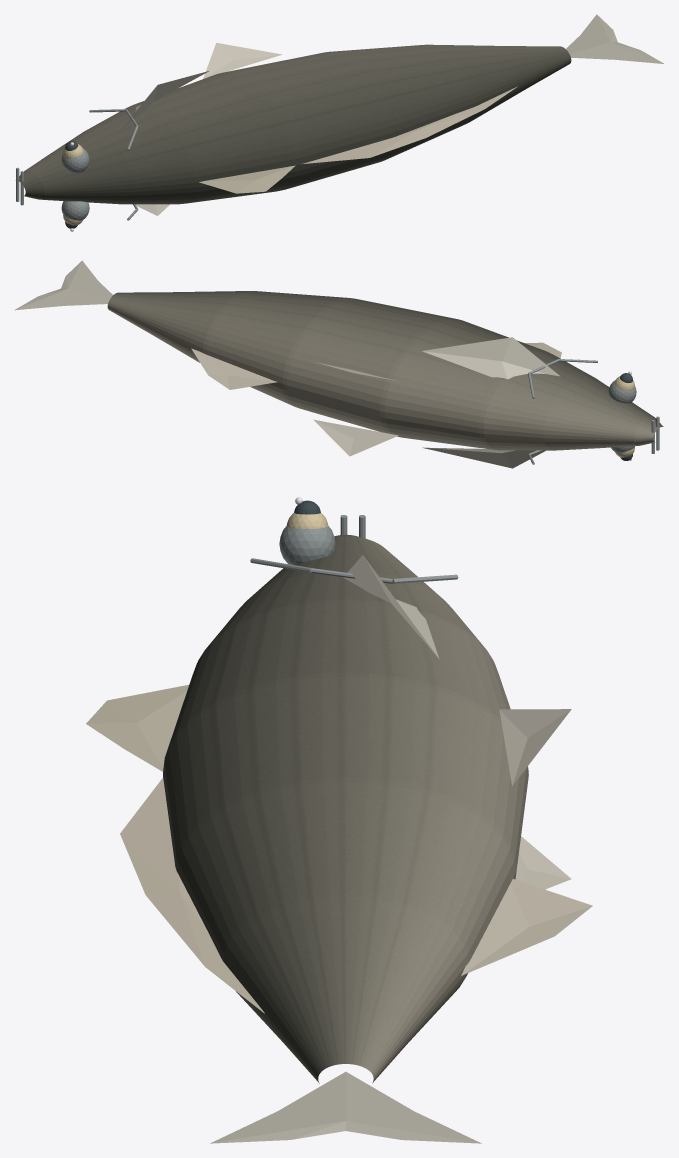
Rendered from Ikan_Gelama.glb.
3 renders of one model, top to bottom at view 1: azimuth 30°, elevation 25°; view 2: azimuth 150°, elevation 25°; view 3: azimuth 270°, elevation 25°, orthographic. The views are drawn at different scales.
Parts seen in each view (by area): view 1: fish; view 2: fish; view 3: fish.
Boxes of the visible parts, x1,y1,x2,y2 form: fish: [15, 14, 663, 231]; fish: [14, 260, 663, 468]; fish: [86, 497, 592, 1143].
Size of the model in its own units: 3.31 by 0.68 by 1.19.
1 material, 1 textured.
